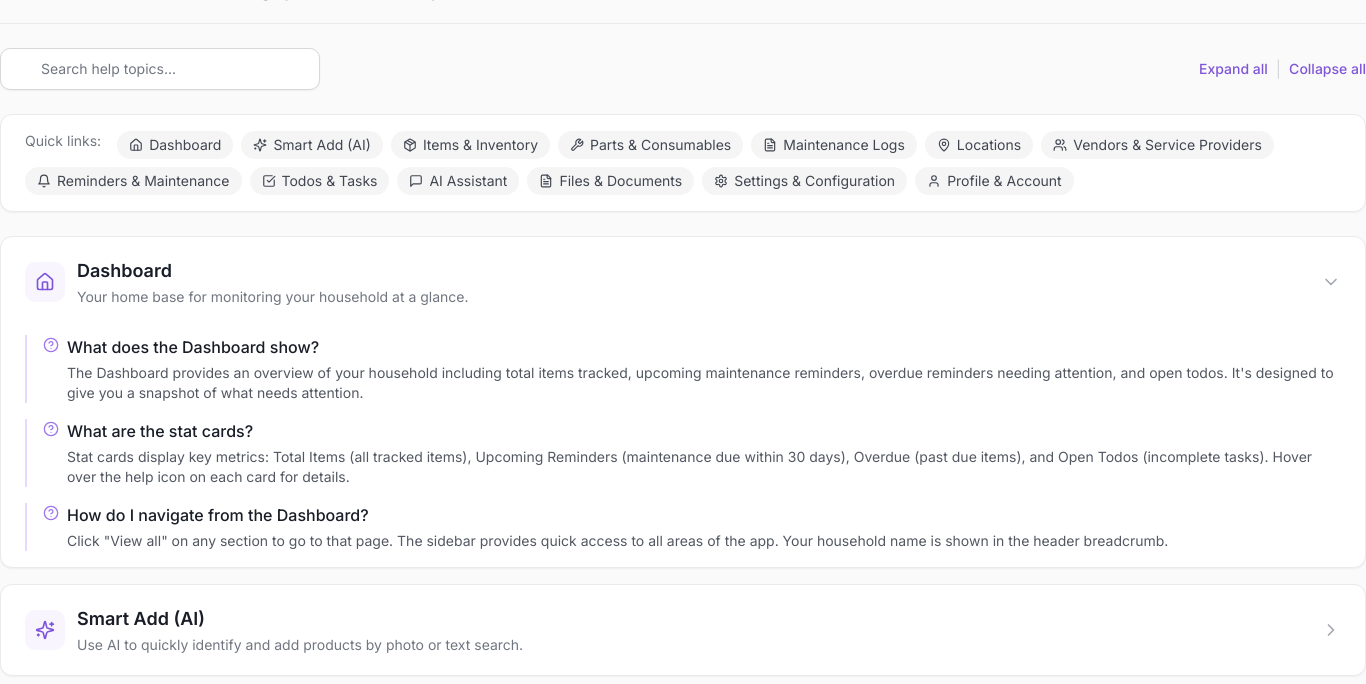
Scenario: HelpPage › section expansion › expand all opens all sections
The width and height of the screenshot is (1366, 684).
What coordinates should you click on to do the following:
click the button "Expand all"
I would click on:
 (1233, 69)
Its box is [1199,57,1268,81].
(page scrolled)
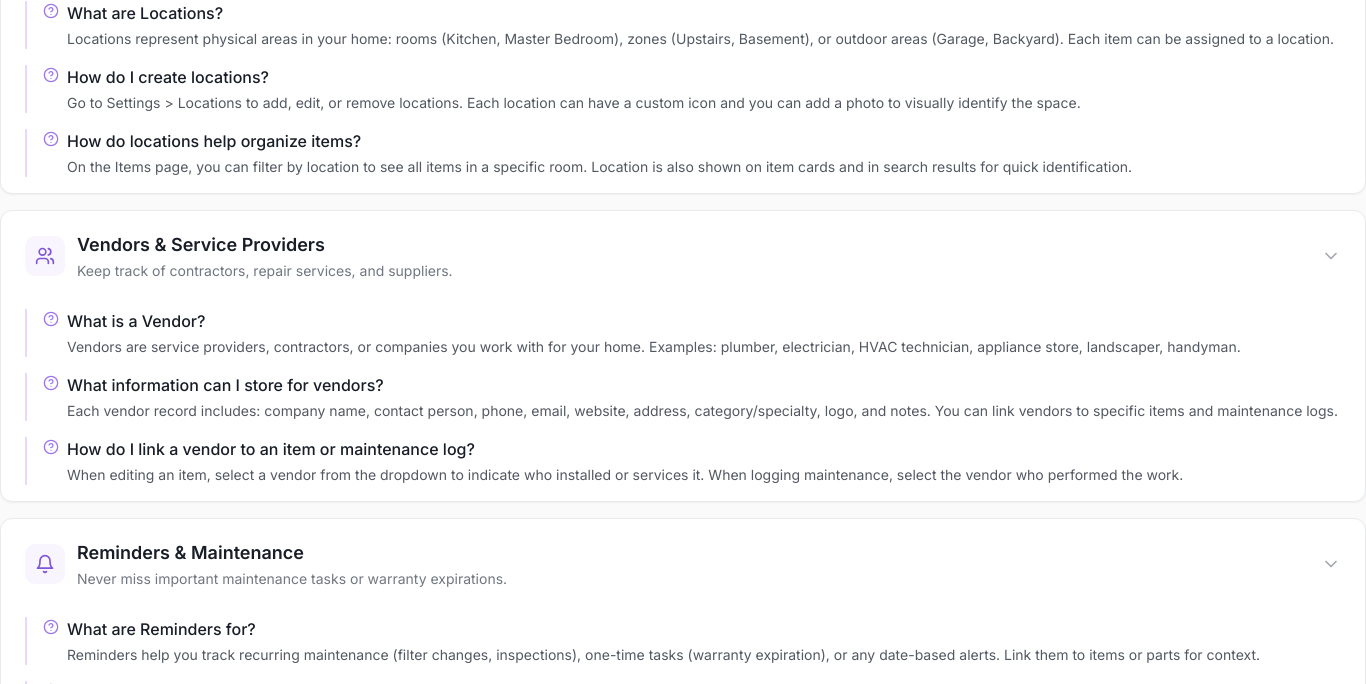
Result: the heading "What is a Vendor?" is shown at [43,311,205,331]
